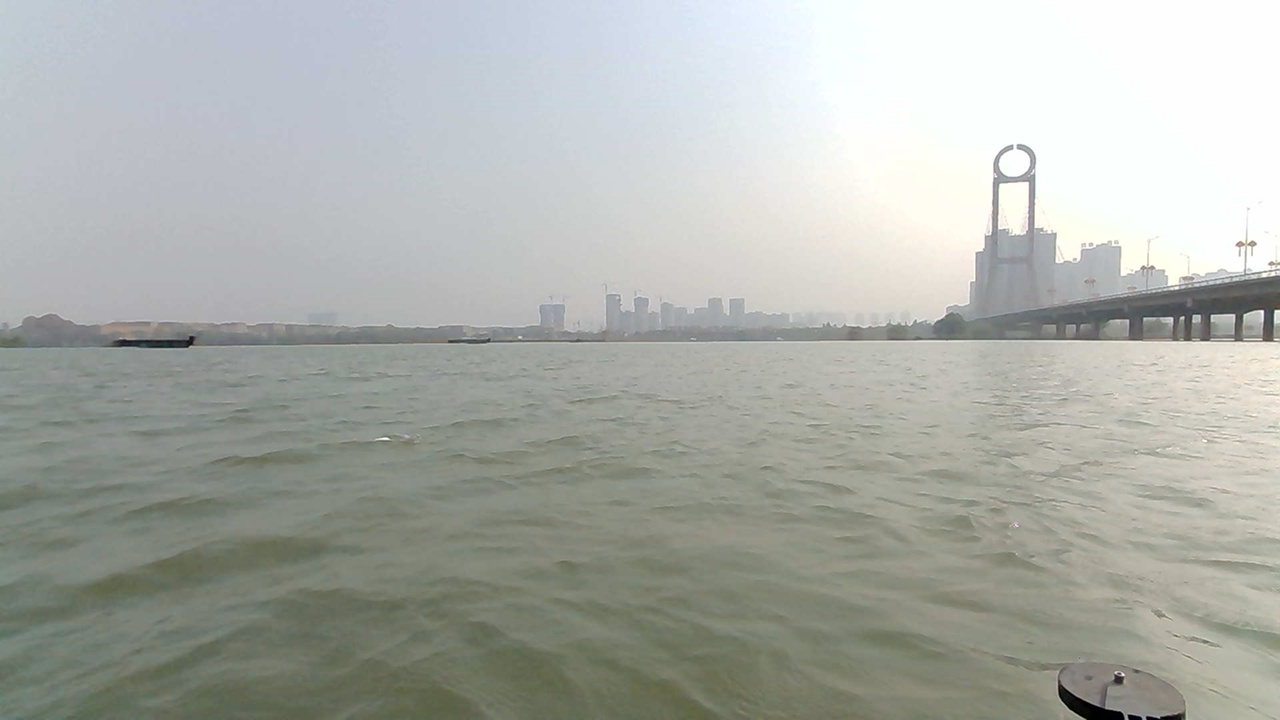bottle: (331, 418, 455, 465)
